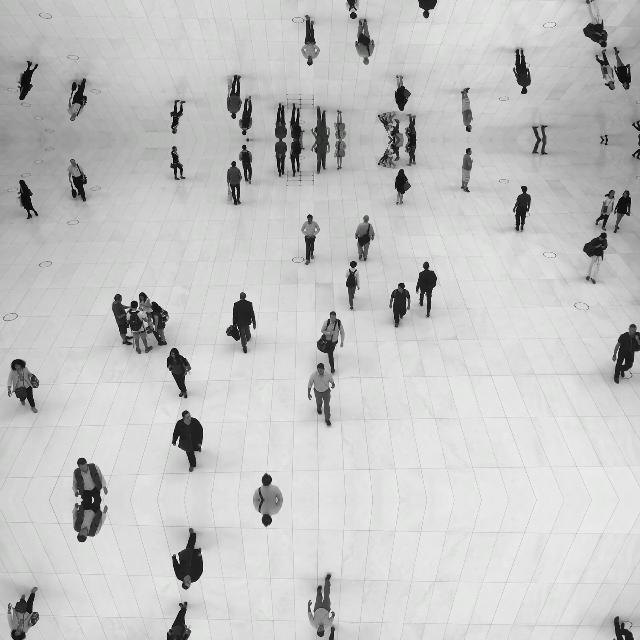person: (172, 411, 204, 473), (172, 527, 204, 589), (6, 358, 40, 414), (307, 362, 335, 426), (307, 574, 335, 638), (6, 586, 39, 640), (317, 311, 345, 374), (612, 324, 640, 384), (126, 300, 154, 354), (72, 458, 108, 500), (72, 500, 108, 542), (232, 292, 256, 354), (582, 232, 608, 284), (166, 348, 192, 398), (415, 262, 437, 318), (582, 0, 607, 48), (112, 294, 134, 346), (301, 214, 321, 266), (301, 15, 321, 66), (354, 215, 376, 261), (389, 282, 411, 328), (354, 19, 376, 65), (166, 601, 191, 640), (148, 302, 170, 346), (252, 472, 284, 500), (252, 500, 284, 528), (67, 158, 87, 202), (67, 78, 87, 122), (17, 180, 38, 220), (17, 60, 38, 100), (513, 185, 531, 231), (513, 49, 531, 95), (596, 190, 616, 230), (344, 261, 360, 311), (596, 50, 616, 90), (613, 46, 631, 90), (613, 190, 631, 233), (227, 161, 243, 205), (227, 75, 243, 119), (139, 292, 155, 334), (612, 616, 640, 640), (312, 140, 331, 174), (312, 106, 331, 140), (394, 169, 411, 205), (394, 75, 411, 111), (461, 148, 474, 192), (461, 88, 474, 132), (239, 144, 253, 184), (239, 96, 253, 136), (170, 146, 186, 180), (170, 100, 186, 134), (274, 140, 288, 178), (274, 102, 288, 140), (290, 140, 302, 177), (290, 104, 302, 140), (386, 140, 404, 162), (386, 118, 404, 140), (415, 0, 437, 18), (317, 626, 345, 640), (334, 140, 346, 170), (334, 110, 346, 140), (405, 140, 417, 167), (405, 114, 417, 140), (344, 0, 359, 19), (384, 146, 396, 168), (384, 112, 396, 134), (532, 140, 548, 156), (532, 124, 548, 140), (631, 144, 640, 160), (631, 120, 640, 136), (600, 140, 608, 146), (600, 134, 608, 140)
